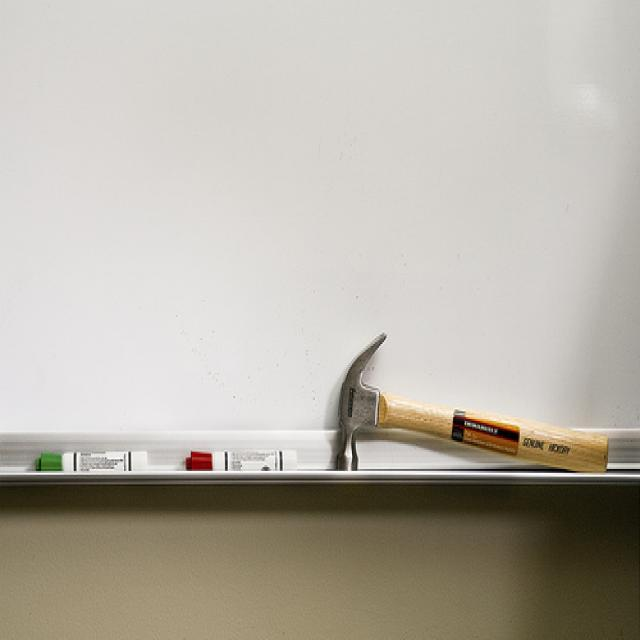hammer: (328, 319, 618, 497)
